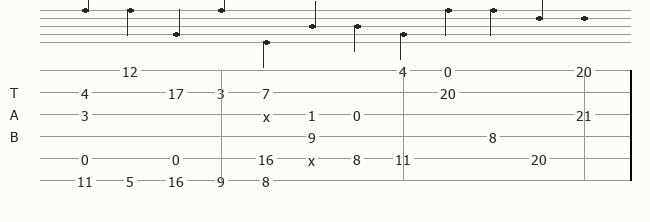0: (81, 151, 93, 165), (172, 151, 184, 165), (353, 107, 365, 121), (444, 63, 456, 77)
1: (308, 107, 320, 121)
11: (77, 173, 97, 187), (395, 151, 415, 165)
12: (122, 63, 142, 77)
16: (168, 173, 188, 187), (258, 151, 278, 165)
17: (168, 85, 188, 99)
20: (440, 85, 460, 99), (531, 151, 551, 165), (576, 63, 596, 77)
21: (576, 107, 596, 121)
3: (81, 107, 93, 121), (217, 85, 229, 99)
4: (81, 85, 93, 99), (399, 63, 411, 77)
5: (126, 173, 138, 187)
7: (262, 85, 274, 99)
8: (262, 173, 274, 187), (353, 151, 365, 165), (489, 129, 501, 143)
9: (217, 173, 229, 187), (308, 129, 320, 143)
x: (263, 108, 274, 120), (308, 152, 319, 164)
